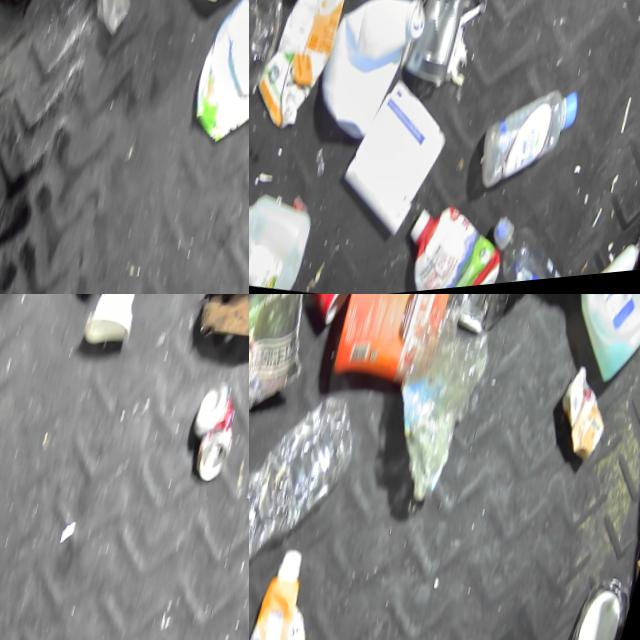can: (249, 294, 334, 431), (545, 368, 628, 482), (398, 0, 481, 103), (181, 381, 249, 493), (249, 294, 371, 342)
milk_jug: (304, 0, 442, 166), (545, 294, 640, 411)
non_white_jug: (327, 294, 467, 403), (249, 544, 348, 640)
plastic_bottle: (374, 294, 504, 519), (249, 372, 372, 596), (478, 74, 594, 208), (479, 212, 597, 294)
